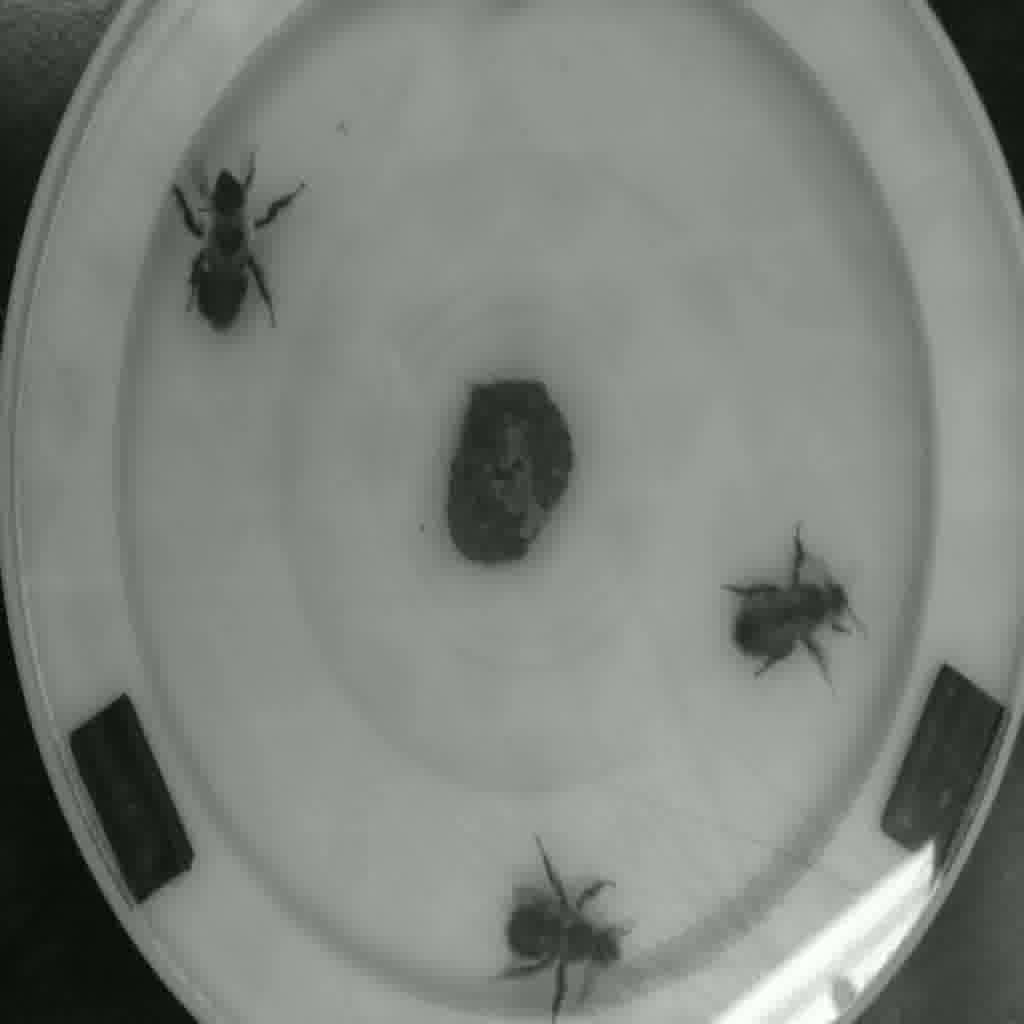bee: (464, 832, 636, 1015), (146, 151, 314, 329), (710, 529, 864, 686)
